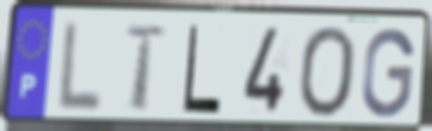4: (241, 24, 287, 118)
G: (358, 25, 417, 120)
L: (53, 19, 106, 117), (180, 22, 224, 117)
O: (296, 23, 358, 121)
T: (121, 23, 170, 114)
